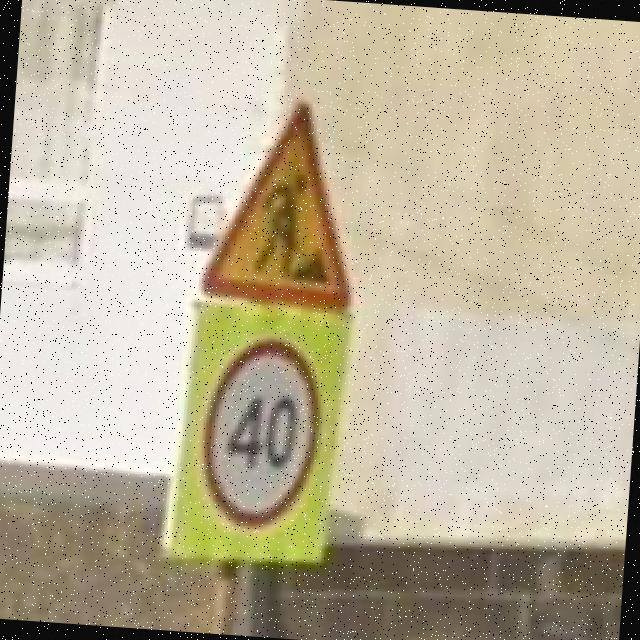Ograniczenie predkosci do 40: (198, 335, 328, 533)
